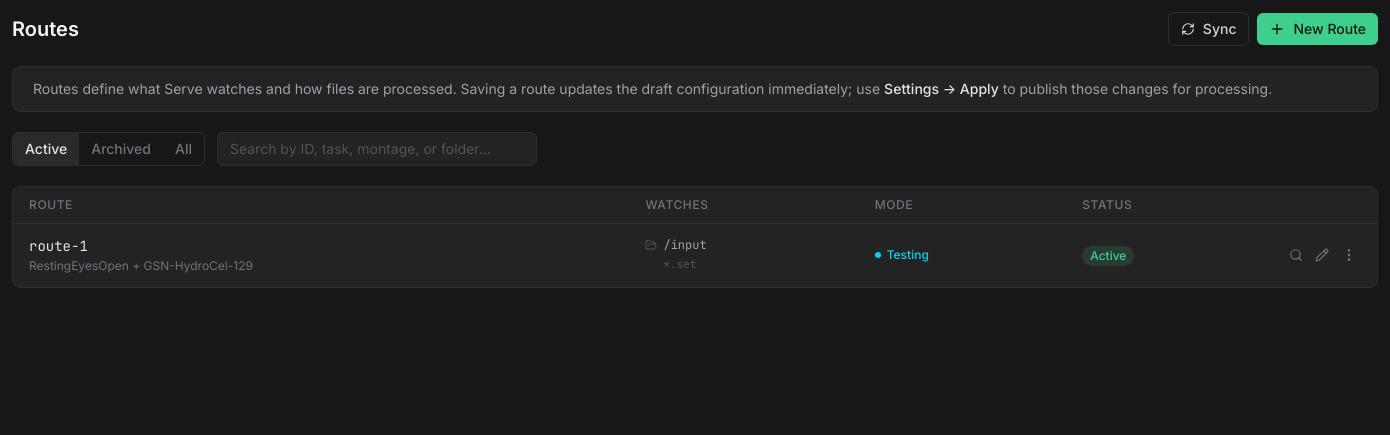
Test: Routes page actions › runs immediate disable action and still requires Apply afterward
Click the button named "Open actions for route route-1": (1349, 255) [1337, 243, 1361, 267]
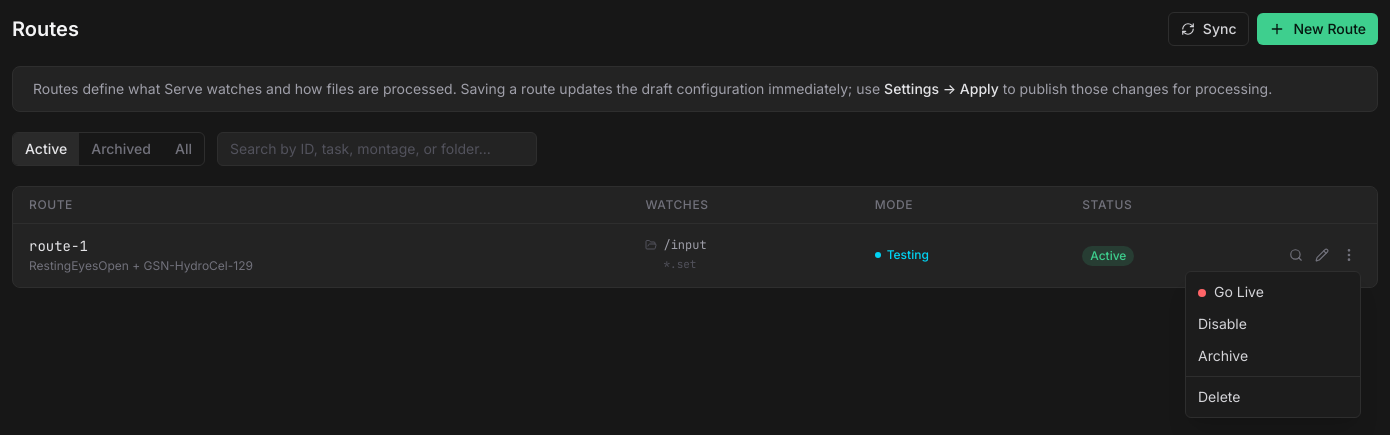
Click the button "Disable": (1273, 324) [1186, 308, 1360, 340]
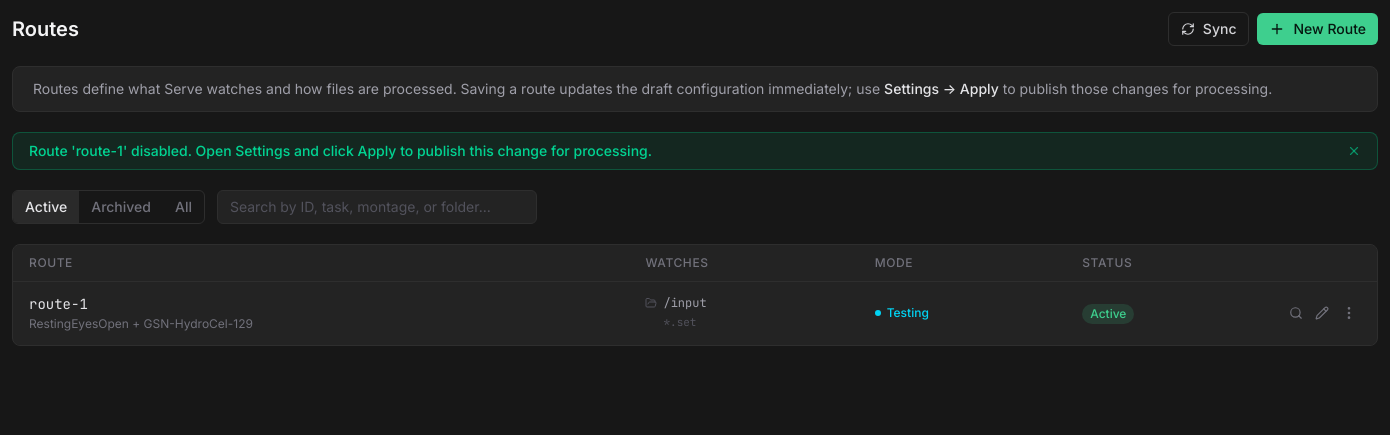
Expected: the text "Route 'route-1' disabled. Open Settings and click Apply to publish this change for processing." is shown, [29, 142, 652, 159]
